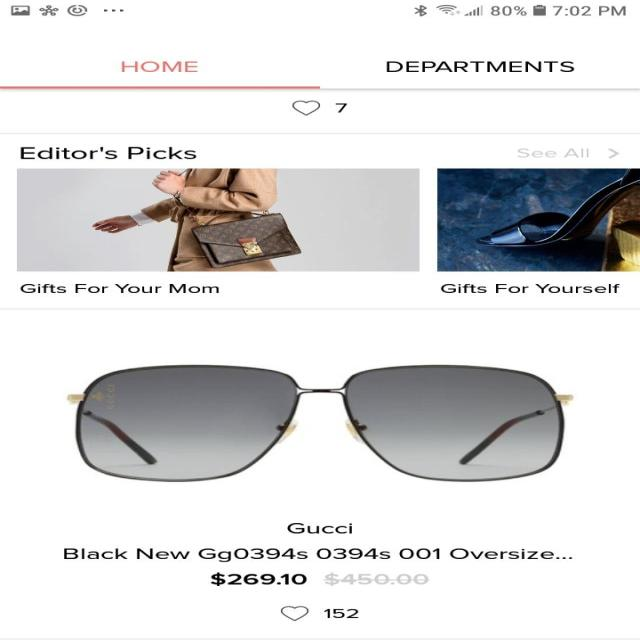Icon: (290, 100, 320, 115), (279, 606, 309, 620), (607, 148, 619, 158)
Image: (66, 364, 572, 481), (17, 168, 420, 271), (436, 168, 640, 272)
Text: (63, 548, 572, 562), (210, 571, 430, 586), (20, 146, 196, 159), (386, 61, 574, 72), (20, 283, 218, 293), (440, 283, 620, 293), (120, 61, 198, 72), (286, 522, 353, 534), (518, 148, 588, 157), (322, 608, 358, 618), (334, 103, 348, 112)
